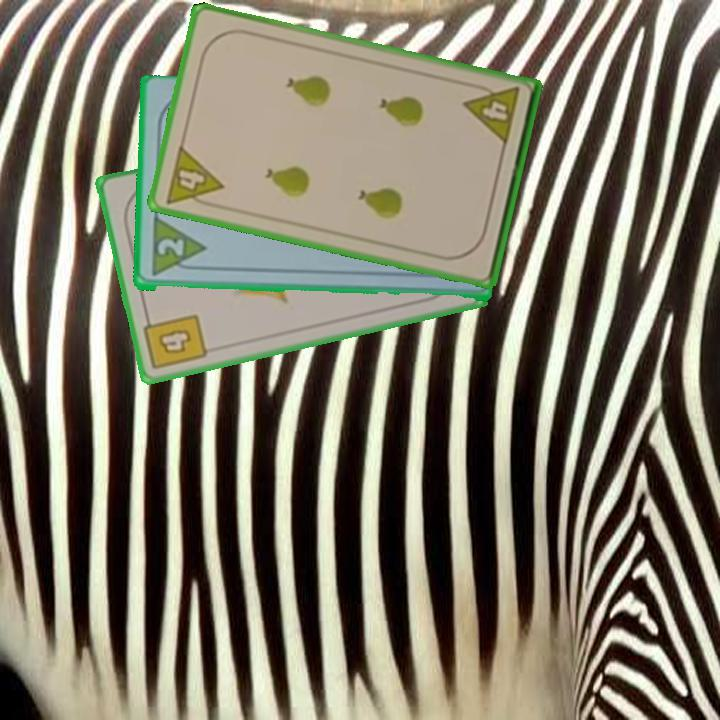2p: (147, 216, 207, 280)
4b: (140, 310, 210, 373)
4p: (161, 142, 226, 212), (460, 80, 523, 148)
